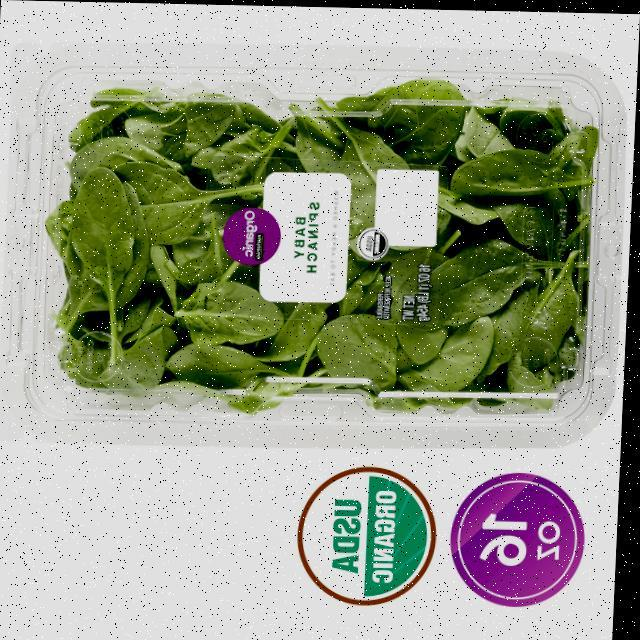Spinach: (40, 91, 609, 407)
